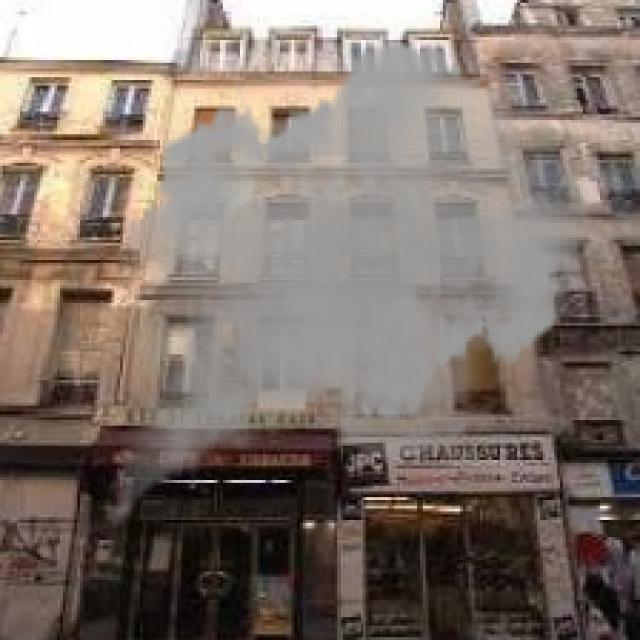smoke: (97, 29, 617, 554)
